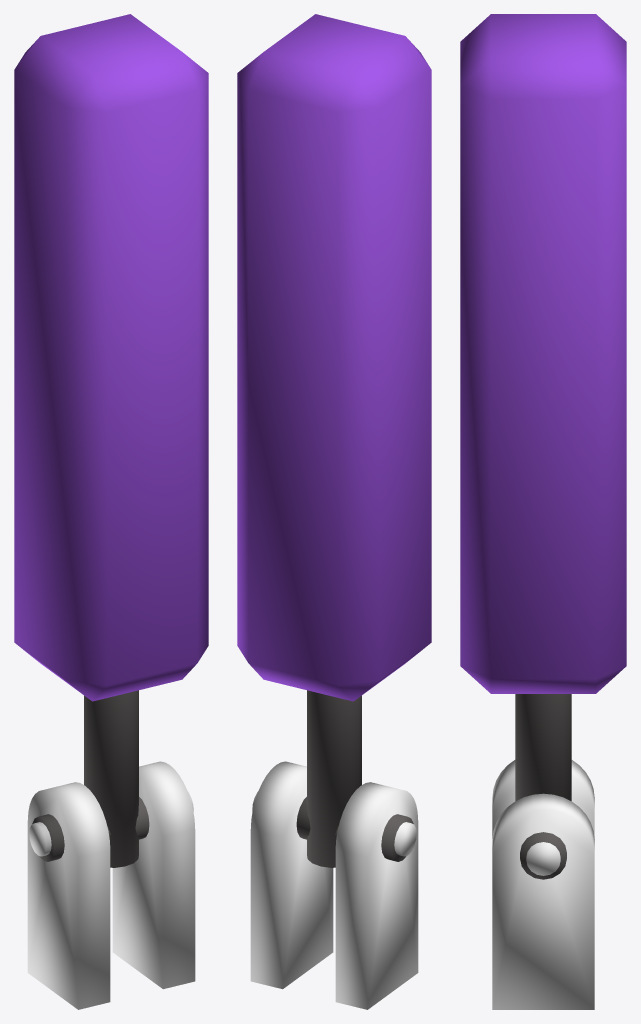
Rendered from Obstacle 22 V4.fbx.
The picture shows the model from 3 angles, left to right: view 1: azimuth 30°, elevation 25°; view 2: azimuth 150°, elevation 25°; view 3: azimuth 270°, elevation 25°; orthographic projection.
Parts seen in each view (by area): view 1: O22 Part 2, O22 Part 1; view 2: O22 Part 2, O22 Part 1; view 3: O22 Part 2, O22 Part 1.
Boxes of the visible parts, left/top/right/bottom form: O22 Part 2: left=14, top=14, right=208, bottom=867; O22 Part 1: left=27, top=761, right=195, bottom=1009; O22 Part 2: left=237, top=14, right=431, bottom=867; O22 Part 1: left=250, top=761, right=418, bottom=1009; O22 Part 2: left=460, top=14, right=626, bottom=879; O22 Part 1: left=492, top=760, right=594, bottom=1009.
Size of the model in its own units: 64.76 by 391 by 62.5.
1 material, 1 textured.
